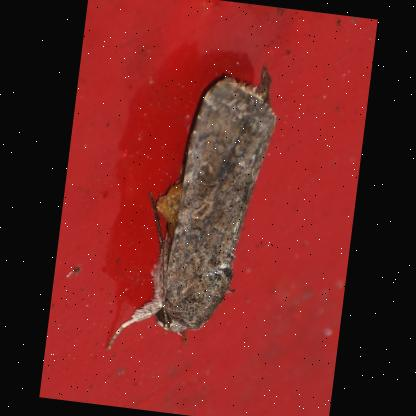Fall Armyworm Moth: (104, 44, 288, 370)
